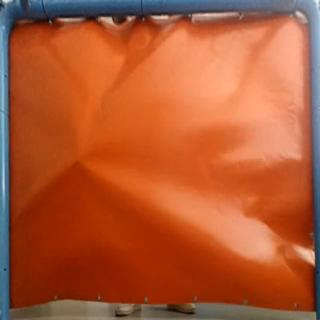Hit-hRxx: (68, 154, 88, 169)
